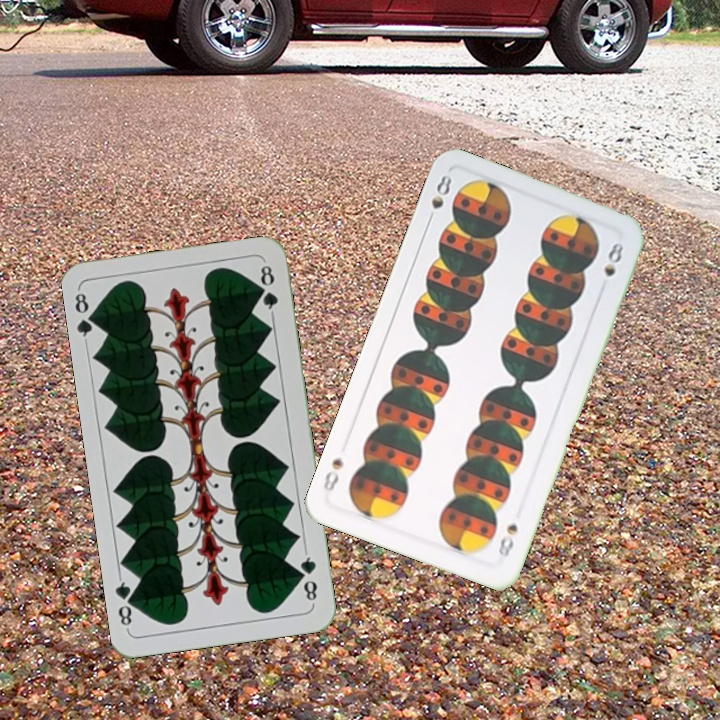G8: (71, 286, 101, 345), (295, 548, 320, 607)
S8: (423, 170, 455, 227), (494, 519, 521, 563)
